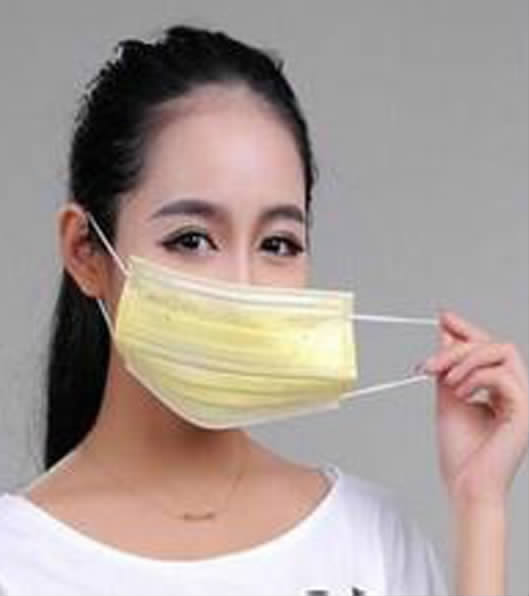face_mask: (117, 103, 309, 420)
